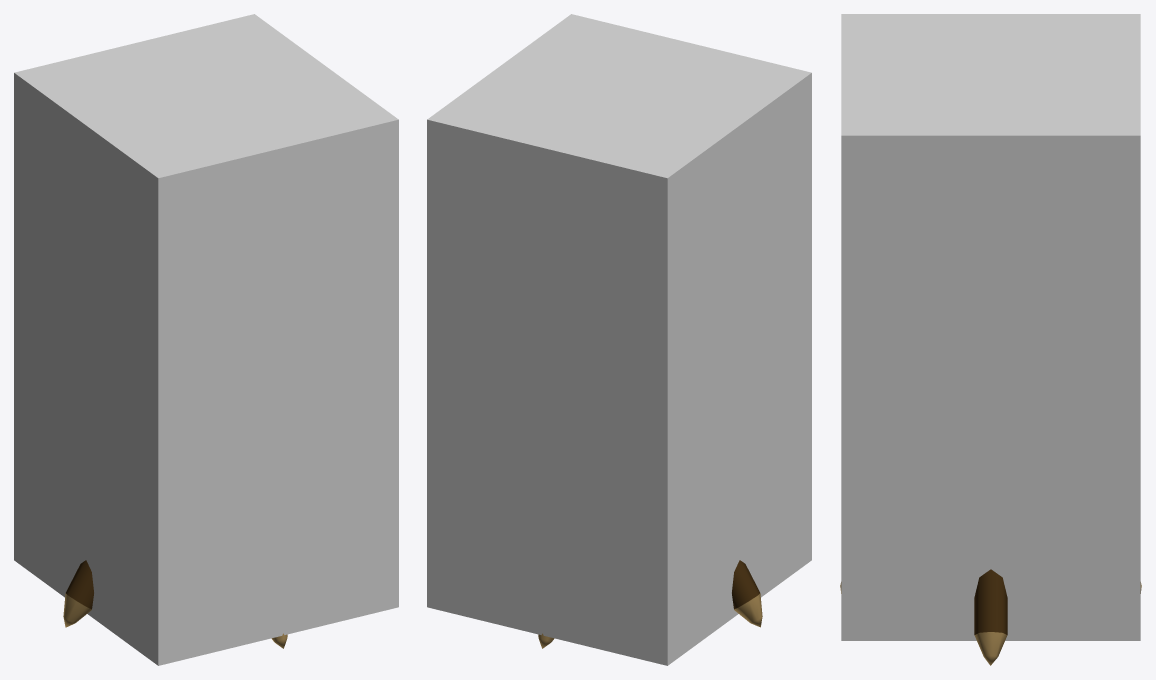
Rendered from SM_GoblinCamp_Horn.fbx.
3 renders of one model, left to right at view 1: azimuth 30°, elevation 25°; view 2: azimuth 150°, elevation 25°; view 3: azimuth 270°, elevation 25°, orthographic. The views are drawn at different scales.
Parts seen in each view (by area): view 1: Col_GoblinCamp_Horn, SM_GoblinCamp_HornStand; view 2: Col_GoblinCamp_Horn, SM_GoblinCamp_HornStand; view 3: Col_GoblinCamp_Horn, SM_GoblinCamp_HornStand.
Part boxes in pixels (x1,y1,x2,y2): Col_GoblinCamp_Horn: [14, 14, 398, 665]; SM_GoblinCamp_HornStand: [63, 560, 287, 648]; Col_GoblinCamp_Horn: [427, 14, 811, 665]; SM_GoblinCamp_HornStand: [538, 560, 762, 648]; Col_GoblinCamp_Horn: [841, 14, 1140, 640]; SM_GoblinCamp_HornStand: [840, 569, 1141, 665].
Size of the model in its own units: 141 by 230 by 121.
